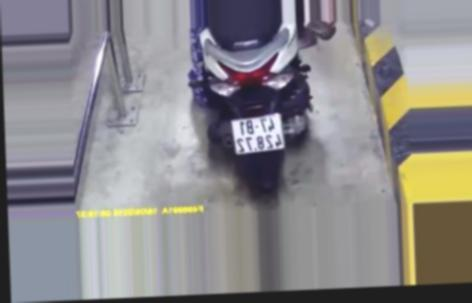License_Plate: (228, 109, 291, 159)
